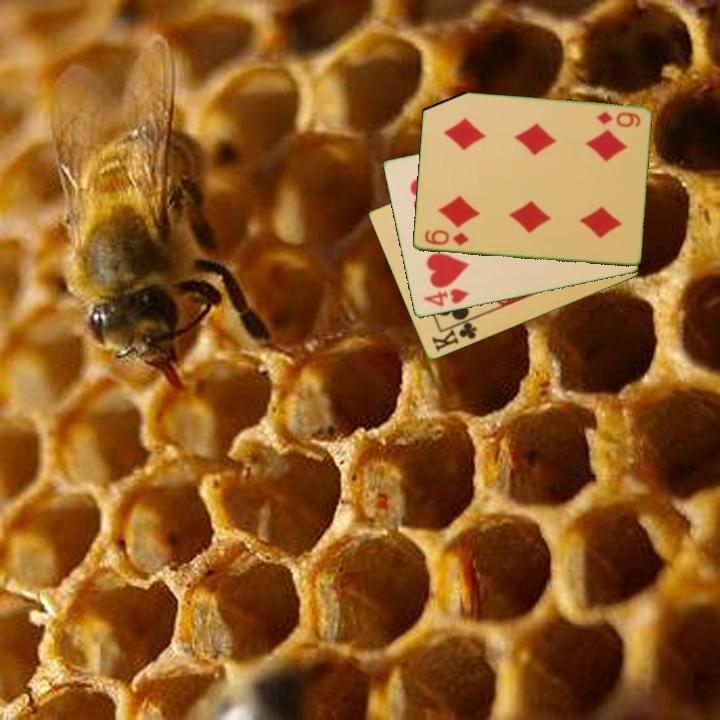4h: (420, 285, 472, 310)
6d: (421, 226, 471, 249), (592, 108, 643, 130)
Kc: (428, 315, 480, 355)
